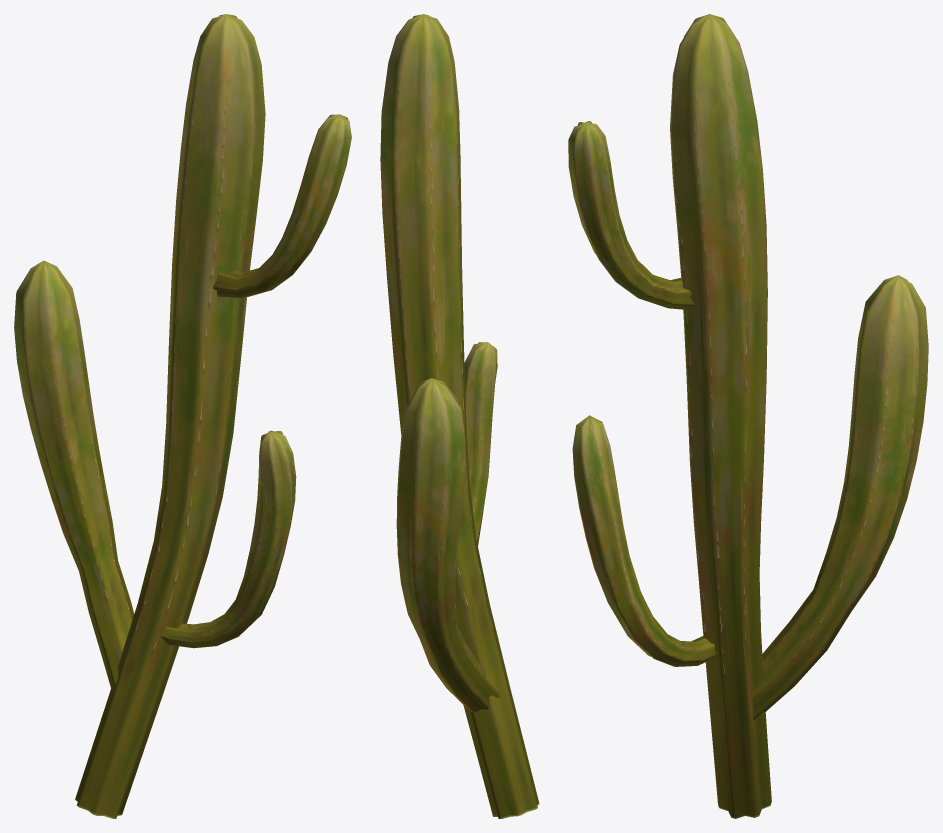
File: SM_Cactus05.fbx
3 renders of one model, left to right at view 1: azimuth 30°, elevation 25°; view 2: azimuth 150°, elevation 25°; view 3: azimuth 270°, elevation 25°, orthographic. The views are drawn at different scales.
Parts seen in each view (by area): view 1: SM_Cactus05; view 2: SM_Cactus05; view 3: SM_Cactus05.
Boxes of the visible parts, <box> form: SM_Cactus05: <box>14,14,351,818</box>; SM_Cactus05: <box>380,14,539,818</box>; SM_Cactus05: <box>568,14,928,818</box>.
Size of the model in its own units: 256 by 962 by 368.
